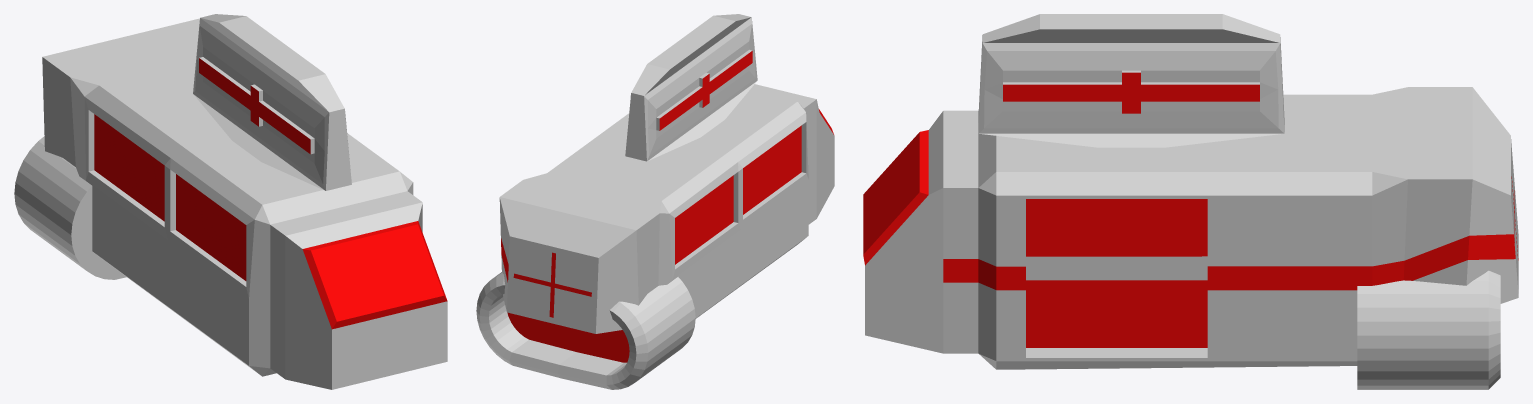
The model's file is Ambulance.fbx.
3 views of the same model, side by side, from view 1: azimuth 30°, elevation 25°; view 2: azimuth 150°, elevation 25°; view 3: azimuth 270°, elevation 25° (orthographic). The views are drawn at different scales.
Parts seen in each view (by area): view 1: Cube; view 2: Cube; view 3: Cube.
Boxes of the visible parts, box(x1,y1,x2,y2) form: Cube: box(14, 14, 447, 389); Cube: box(476, 14, 834, 389); Cube: box(863, 14, 1518, 389).
Size of the model in its own units: 251 by 337 by 600.
